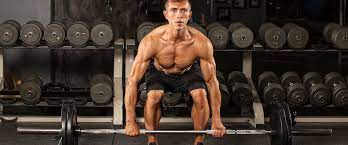face: (164, 3, 195, 33)
